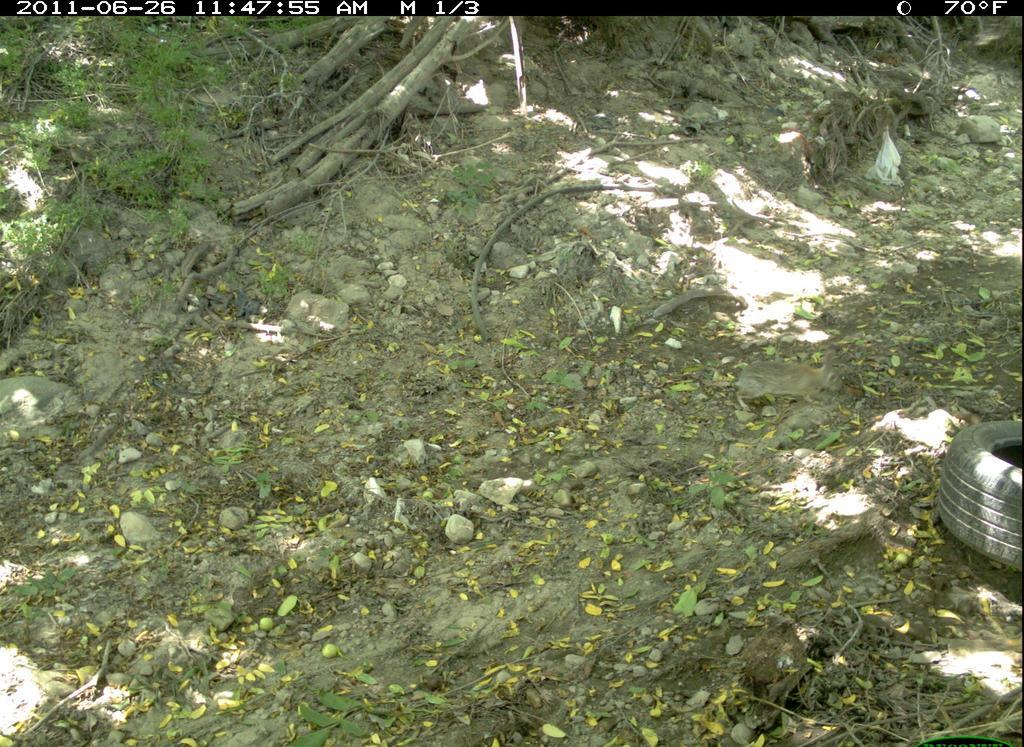rabbit: (705, 329, 913, 455)
